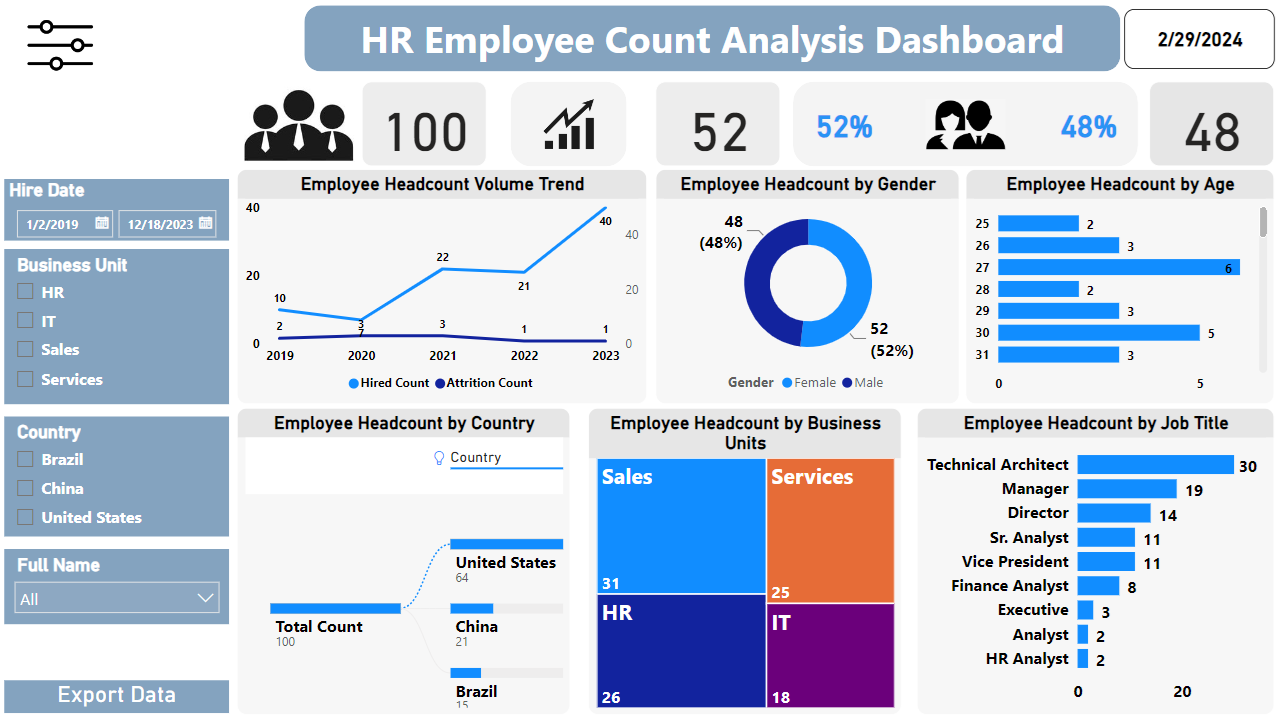

The page's visual inventory and layout, read from the dashboard file:
{"tool":"powerbi","page":{"name":"HR Analysis","canvas":[1280,720],"ordinal":0},"visuals":[{"type":"card","fields":{"Values":["Employee Data.Total_Count"]},"box":[363.8,82.5,125,85],"z":0},{"type":"lineChart","title":"Employee Headcount Volume Trend","fields":{"Category":["Employee Data.Hire Date.Variation.Date Hierarchy.Year"],"Y":["CountNonNull(Employee Data.EEID)"],"Y2":["CountNonNull(Employee Data.End Date)"]},"box":[238.8,170,410,235],"z":1000},{"type":"donutChart","title":"Employee Headcount by Gender","fields":{"Category":["Employee Data.Gender"],"Y":["CountNonNull(Employee Data.EEID)"]},"box":[657.5,170,303.8,235],"z":2000},{"type":"clusteredBarChart","title":"Employee Headcount by Age","fields":{"Category":["Employee Data.Age"],"Y":["CountNonNull(Employee Data.EEID)"]},"box":[967.5,170,308.8,235],"z":3000},{"type":"decompositionTreeVisual","title":"Employee Headcount by Country","fields":{"Analyze":["CountNonNull(Employee Data.Country)"],"ExplainBy":["Employee Data.Country"]},"box":[238.8,408.8,333.8,308.8],"z":4000},{"type":"treemap","title":"Employee Headcount by Business Units","fields":{"Group":["Employee Data.Business Unit"],"Values":["CountNonNull(Employee Data.EEID)"]},"box":[590,408.8,313.8,308.8],"z":5000},{"type":"clusteredBarChart","title":"Employee Headcount by Job Title","fields":{"Y":["CountNonNull(Employee Data.EEID)"],"Category":["Employee Data.Job Title"]},"box":[918.8,408.8,357.5,308.8],"z":6000},{"type":"card","fields":{"Values":["Employee Data.Total_Male_Count"]},"box":[1151.2,82.5,125,85],"z":7000},{"type":"card","fields":{"Values":["Employee Data.Total_Female_Count"]},"box":[657.5,82.5,125,85],"z":8000},{"type":"card","fields":{"Values":["Employee Data.Male%"]},"box":[1040,92.5,100,65],"z":9000},{"type":"card","fields":{"Values":["Employee Data.Female%"]},"box":[795,92.5,100,65],"z":10000},{"type":"shape","box":[795,82.5,345,85],"z":11000},{"type":"image","box":[922.5,95,90,60],"z":12000},{"type":"shape","box":[306.2,6.2,816.2,66.2],"z":13000},{"type":"image","box":[238.8,82.5,125,85],"z":14000},{"type":"image","box":[522.5,87.5,97.5,75],"z":15000},{"type":"shape","box":[512.5,82.5,116.2,85],"z":16000},{"type":"slicer","fields":{"Values":["Employee Data.Business Unit"]},"box":[6.2,250,225,155],"z":17000},{"type":"slicer","fields":{"Values":["Employee Data.Country"]},"box":[6.2,417.5,225,120],"z":18000},{"type":"slicer","fields":{"Values":["Employee Data.Full Name"]},"box":[6.2,550,225,75],"z":19000},{"type":"slicer","title":"Hire Date","fields":{"Values":["Employee Data.Hire Date"]},"box":[6.2,180,225,61.2],"z":20000},{"type":"card","fields":{"Values":["Min(Query1.Date)"]},"box":[1126.2,10,150,60],"z":21000},{"type":"image","box":[6.2,6.2,112.5,80],"z":22000},{"type":"tableEx","title":"Export Data","fields":{"Values":["Employee Data.EEID","Employee Data.Full Name","Employee Data.Gender","Employee Data.Job Title","Employee Data.Hire Date.Variation.Date Hierarchy.Year","Employee Data.Hire Date.Variation.Date Hierarchy.Quarter","Employee Data.Hire Date.Variation.Date Hierarchy.Month","Employee Data.Hire Date.Variation.Date Hierarchy.Day","Sum(Employee Data.Annual Salary)","Employee Data.Business Unit","Employee Data.Department","Employee Data.City"]},"box":[6.2,685,225,32.5],"z":23000}]}

Visuals, with their boxes in screenshot pixels (x1, y1, x2, y2), scaled from the page's 1280x720 canvas onto the 1276x716 screenshot:
card - Employee Data.Total_Count: x1=363, y1=82, x2=487, y2=167
"Employee Headcount Volume Trend" lineChart: x1=238, y1=169, x2=647, y2=403
"Employee Headcount by Gender" donutChart: x1=655, y1=169, x2=958, y2=403
"Employee Headcount by Age" clusteredBarChart: x1=964, y1=169, x2=1272, y2=403
"Employee Headcount by Country" decompositionTreeVisual: x1=238, y1=407, x2=571, y2=714
"Employee Headcount by Business Units" treemap: x1=588, y1=407, x2=901, y2=714
"Employee Headcount by Job Title" clusteredBarChart: x1=916, y1=407, x2=1272, y2=714
card - Employee Data.Total_Male_Count: x1=1148, y1=82, x2=1272, y2=167
card - Employee Data.Total_Female_Count: x1=655, y1=82, x2=780, y2=167
card - Employee Data.Male%: x1=1037, y1=92, x2=1136, y2=157
card - Employee Data.Female%: x1=793, y1=92, x2=892, y2=157
shape: x1=793, y1=82, x2=1136, y2=167
image: x1=920, y1=94, x2=1009, y2=154
shape: x1=305, y1=6, x2=1119, y2=72
image: x1=238, y1=82, x2=363, y2=167
image: x1=521, y1=87, x2=618, y2=162
shape: x1=511, y1=82, x2=627, y2=167
slicer - Employee Data.Business Unit: x1=6, y1=249, x2=230, y2=403
slicer - Employee Data.Country: x1=6, y1=415, x2=230, y2=535
slicer - Employee Data.Full Name: x1=6, y1=547, x2=230, y2=622
"Hire Date" slicer: x1=6, y1=179, x2=230, y2=240
card - Min(Query1.Date): x1=1123, y1=10, x2=1272, y2=70
image: x1=6, y1=6, x2=118, y2=86
"Export Data" tableEx: x1=6, y1=681, x2=230, y2=714
